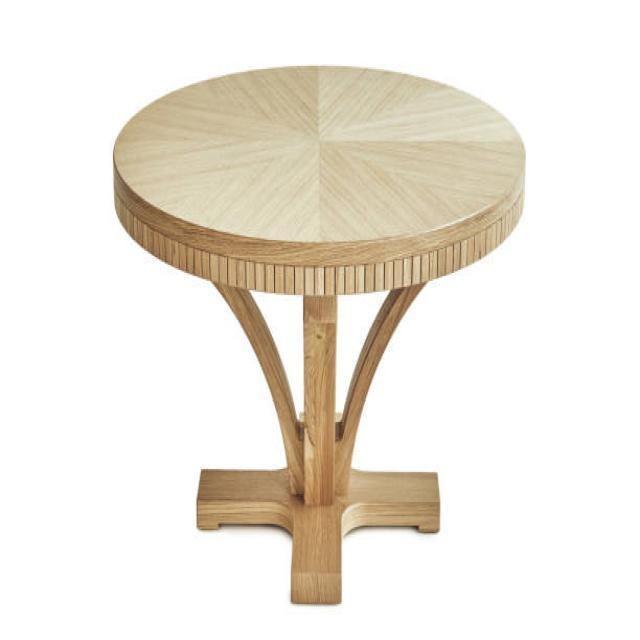table: (112, 62, 526, 606)
